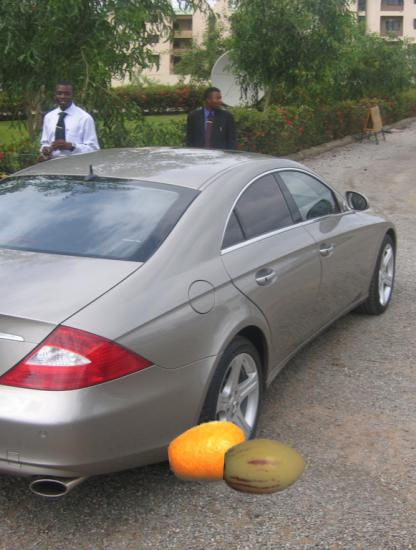Kumquats: (168, 412, 249, 493)
Pepino: (224, 425, 308, 509)
